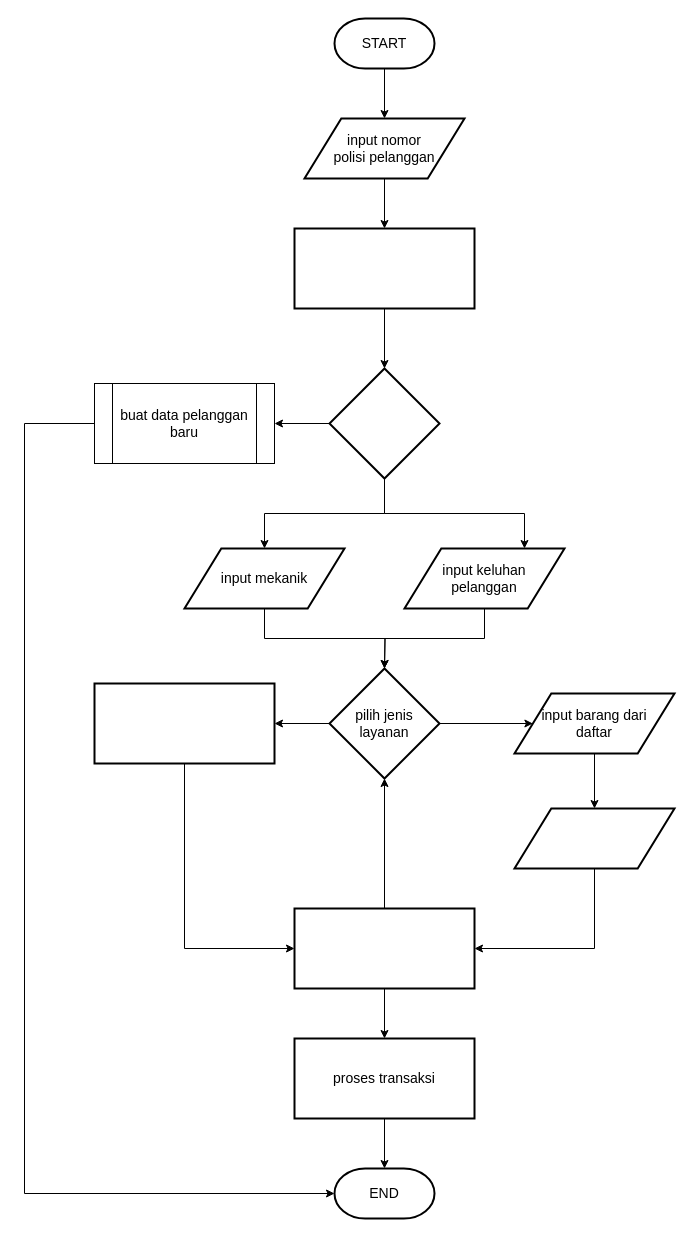
Image size: 693x1236. Some labels were removed from this diagram. The centre of each missing label's shape, as x and y in pixels:
"cari data pelanggan berdasarkan nomor polisi" goes at (x=384, y=268).
"input kuantitas barang" goes at (x=594, y=838).
"masukkan biaya jasa" goes at (x=184, y=723).
"masukkan ke rincian transaksi" goes at (x=384, y=948).
"pelanggan terdaftar?" goes at (x=384, y=423).
